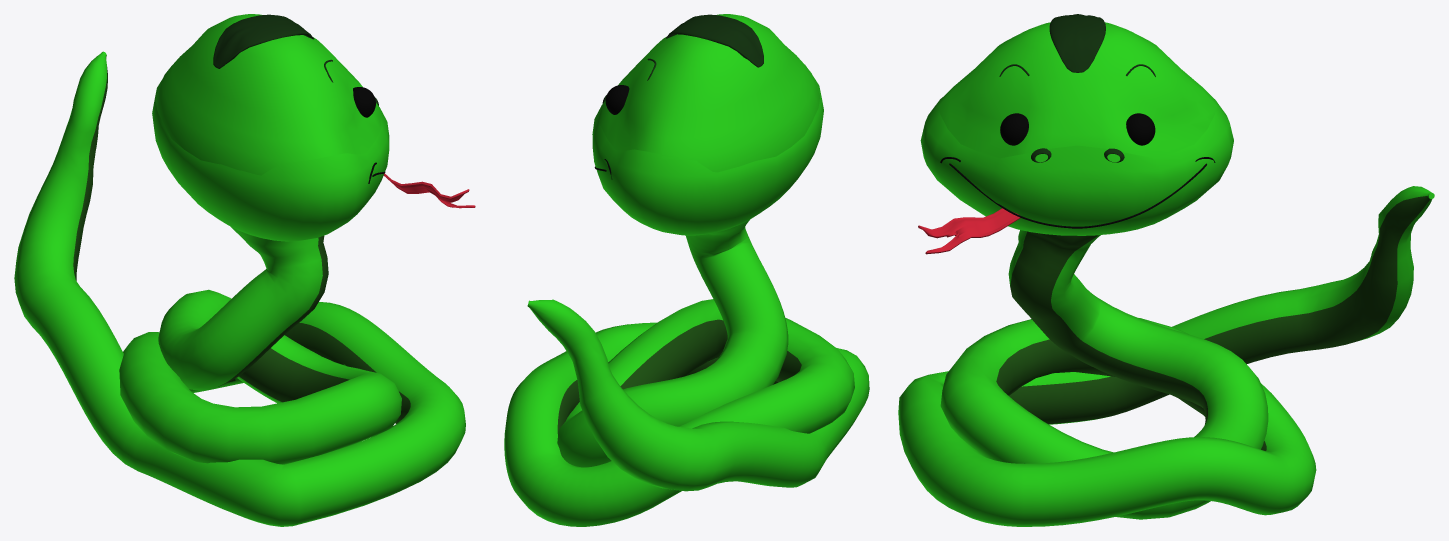
The model's file is snake.obj.
3 renders of one model, left to right at view 1: azimuth 30°, elevation 25°; view 2: azimuth 150°, elevation 25°; view 3: azimuth 270°, elevation 25°, orthographic. The views are drawn at different scales.
Visible parts, largest first — view 1: CourbeBézier.003_CourbeBézier.004, Sphère, Sphère.001, Sphère.004_Sphère.005, Cube_Cube.001, Sphère.002; view 2: CourbeBézier.003_CourbeBézier.004, Sphère, Sphère.001, Sphère.004_Sphère.005, Sphère.002; view 3: CourbeBézier.003_CourbeBézier.004, Sphère, Sphère.001, Sphère.004_Sphère.005, Cube_Cube.001, Sphère.002, CourbeBézier_CourbeBézier.001.
Part boxes in pixels (x1,y1,x2,y2): CourbeBézier.003_CourbeBézier.004: (14, 51, 465, 526); Sphère: (155, 14, 381, 241); Sphère.001: (152, 79, 389, 240); Sphère.004_Sphère.005: (213, 14, 313, 68); Cube_Cube.001: (383, 173, 475, 208); Sphère.002: (353, 87, 375, 117); CourbeBézier.003_CourbeBézier.004: (504, 220, 869, 526); Sphère: (600, 14, 819, 235); Sphère.001: (592, 76, 823, 234); Sphère.004_Sphère.005: (666, 14, 763, 67); Sphère.002: (605, 85, 629, 114); CourbeBézier.003_CourbeBézier.004: (898, 186, 1434, 526); Sphère: (937, 22, 1217, 235); Sphère.001: (920, 97, 1233, 229); Sphère.004_Sphère.005: (1049, 14, 1105, 72); Cube_Cube.001: (918, 208, 1020, 254); Sphère.002: (1000, 113, 1155, 145); CourbeBézier_CourbeBézier.001: (949, 163, 1206, 228).
Size of the model in its own units: 7.18 by 10.41 by 11.16.
